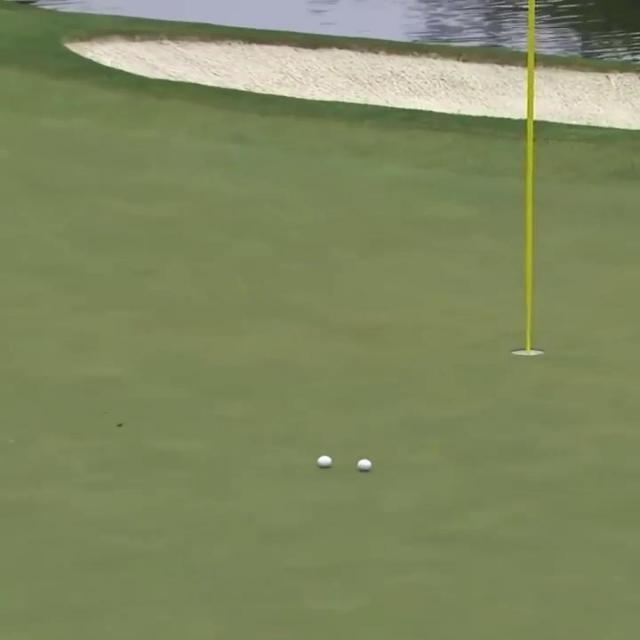GolfBall: (317, 454, 334, 467), (357, 459, 373, 470)
